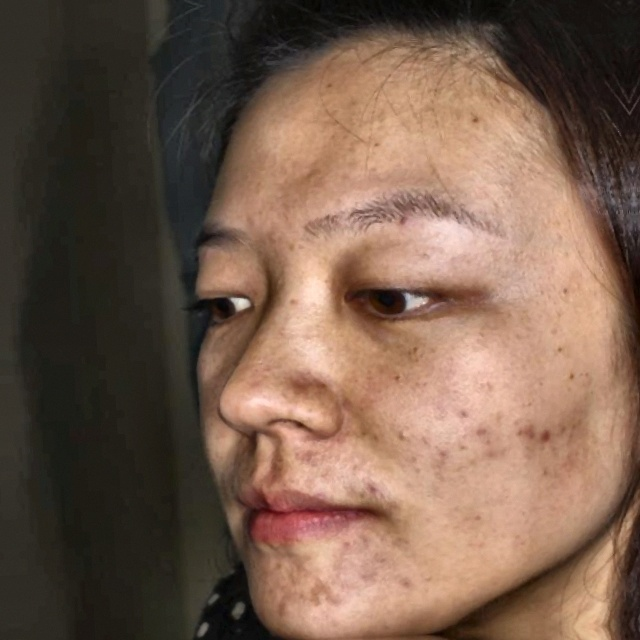comedone: (527, 421, 559, 459), (356, 473, 385, 506), (469, 418, 499, 448)
